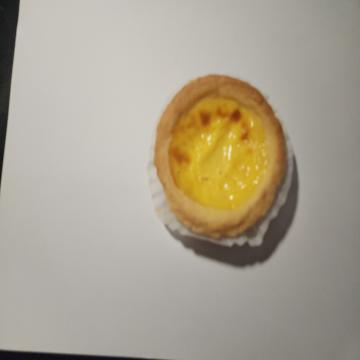EggTart: (152, 72, 287, 243)
